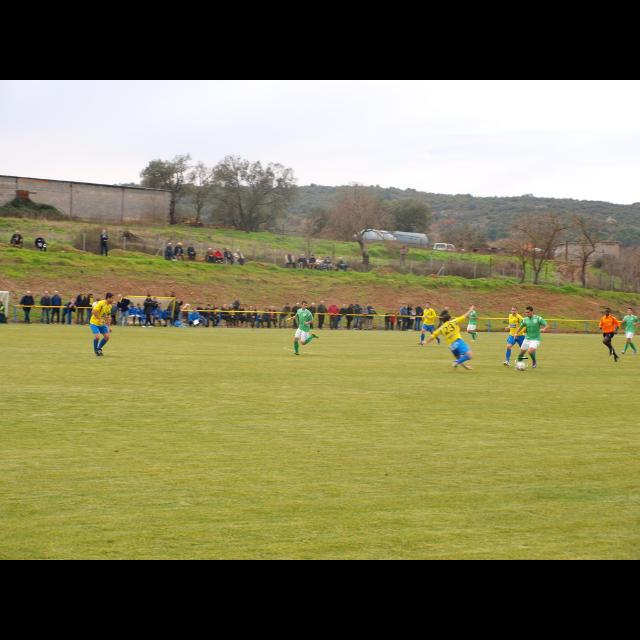Football: (516, 358, 528, 368)
